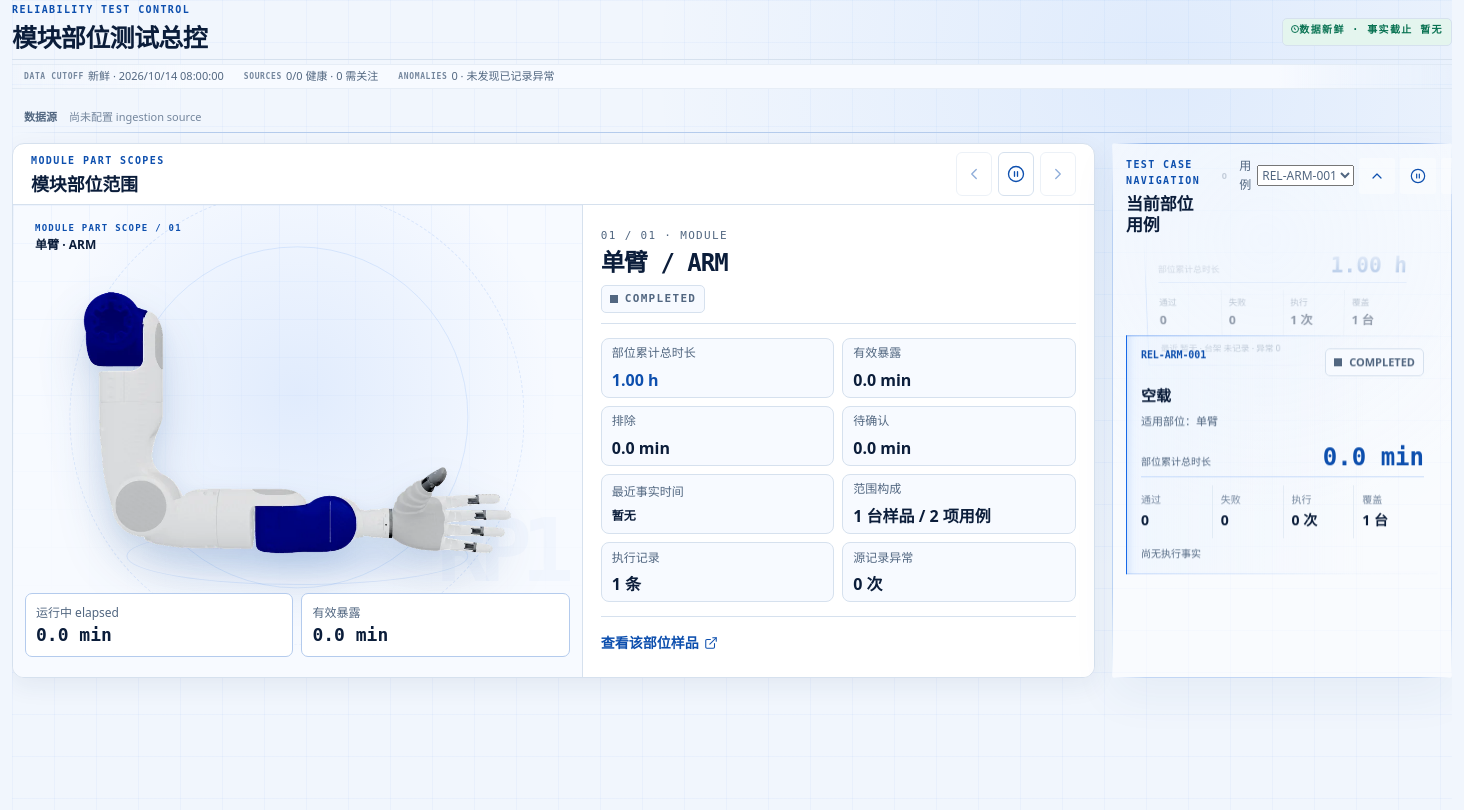
Test: hides and restores cases whose recorded duration is zero
expect the text "REL-ARM-001" is shown: met, box [1141,349,1206,360]
Click the button named "隐藏累计时长为 0 的用例" at coordinates (1224, 176), box [1216,168,1232,184]
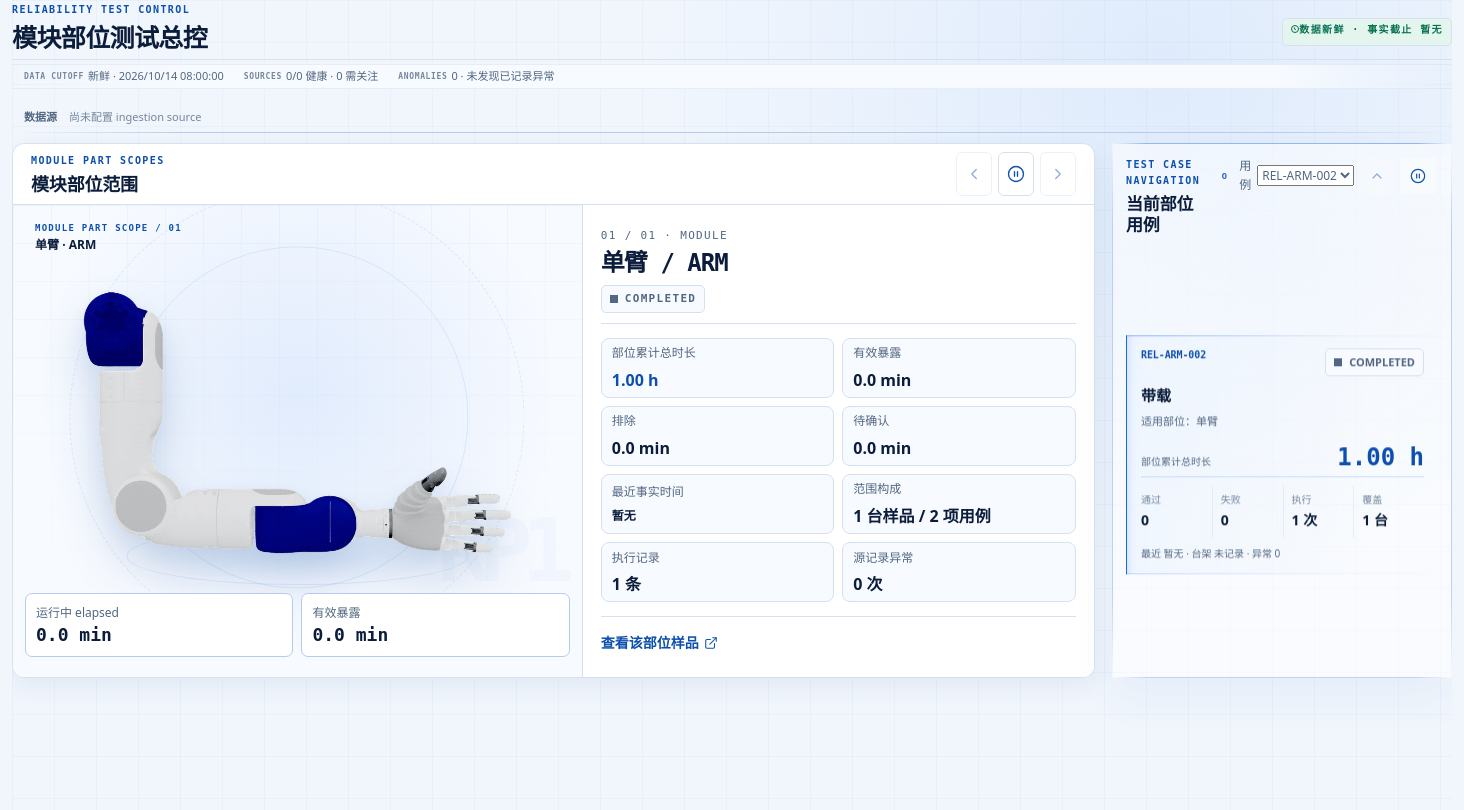
expect the button "REL-ARM-001" is gone: met
expect the text "REL-ARM-002" is shown: met, box [1141,349,1206,360]
Click the button named "显示累计时长为 0 的用例" at coordinates (1224, 176), box [1216,168,1232,184]
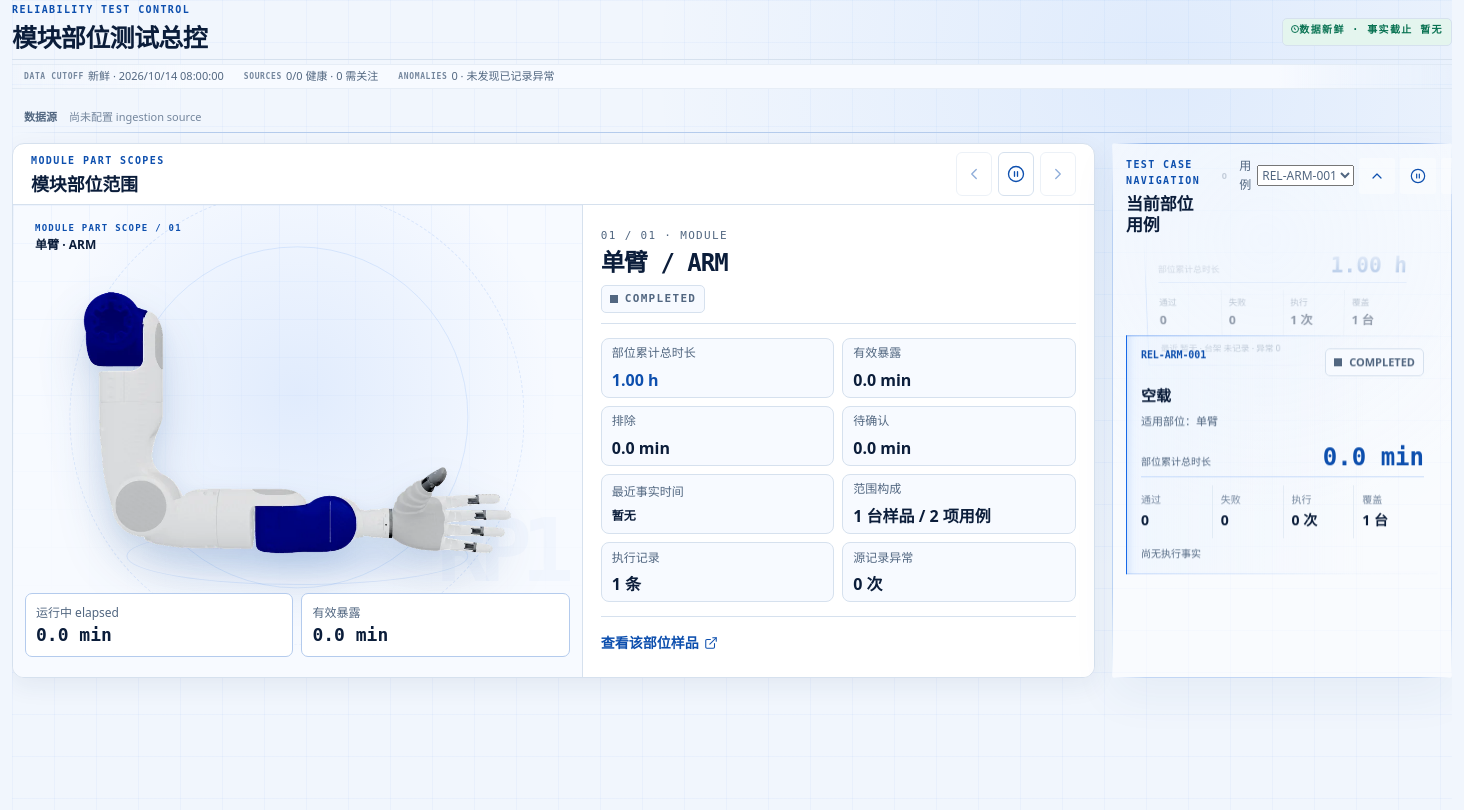
expect the text "REL-ARM-001" is shown: met, box [1141,349,1206,360]
